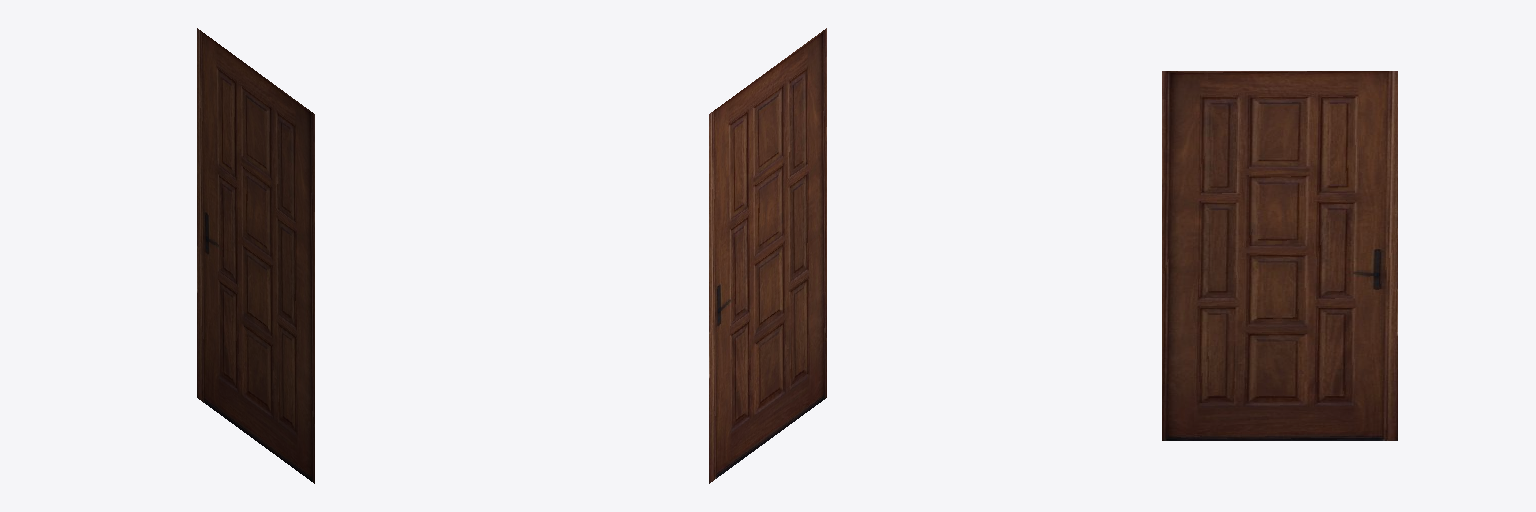
3 views of the same model, side by side, from view 1: azimuth 30°, elevation 25°; view 2: azimuth 150°, elevation 25°; view 3: azimuth 270°, elevation 25° (orthographic).
Parts seen in each view (by area): view 1: outdoor_Plane.002; view 2: outdoor_Plane.002; view 3: outdoor_Plane.002.
Boxes of the visible parts, box(x1,y1,x2,y2) form: outdoor_Plane.002: box(197, 28, 314, 483); outdoor_Plane.002: box(709, 28, 826, 483); outdoor_Plane.002: box(1162, 71, 1397, 440).
Bounding box in the file's own units: 0 × 16 × 9.22.
1 materials, 1 textured.